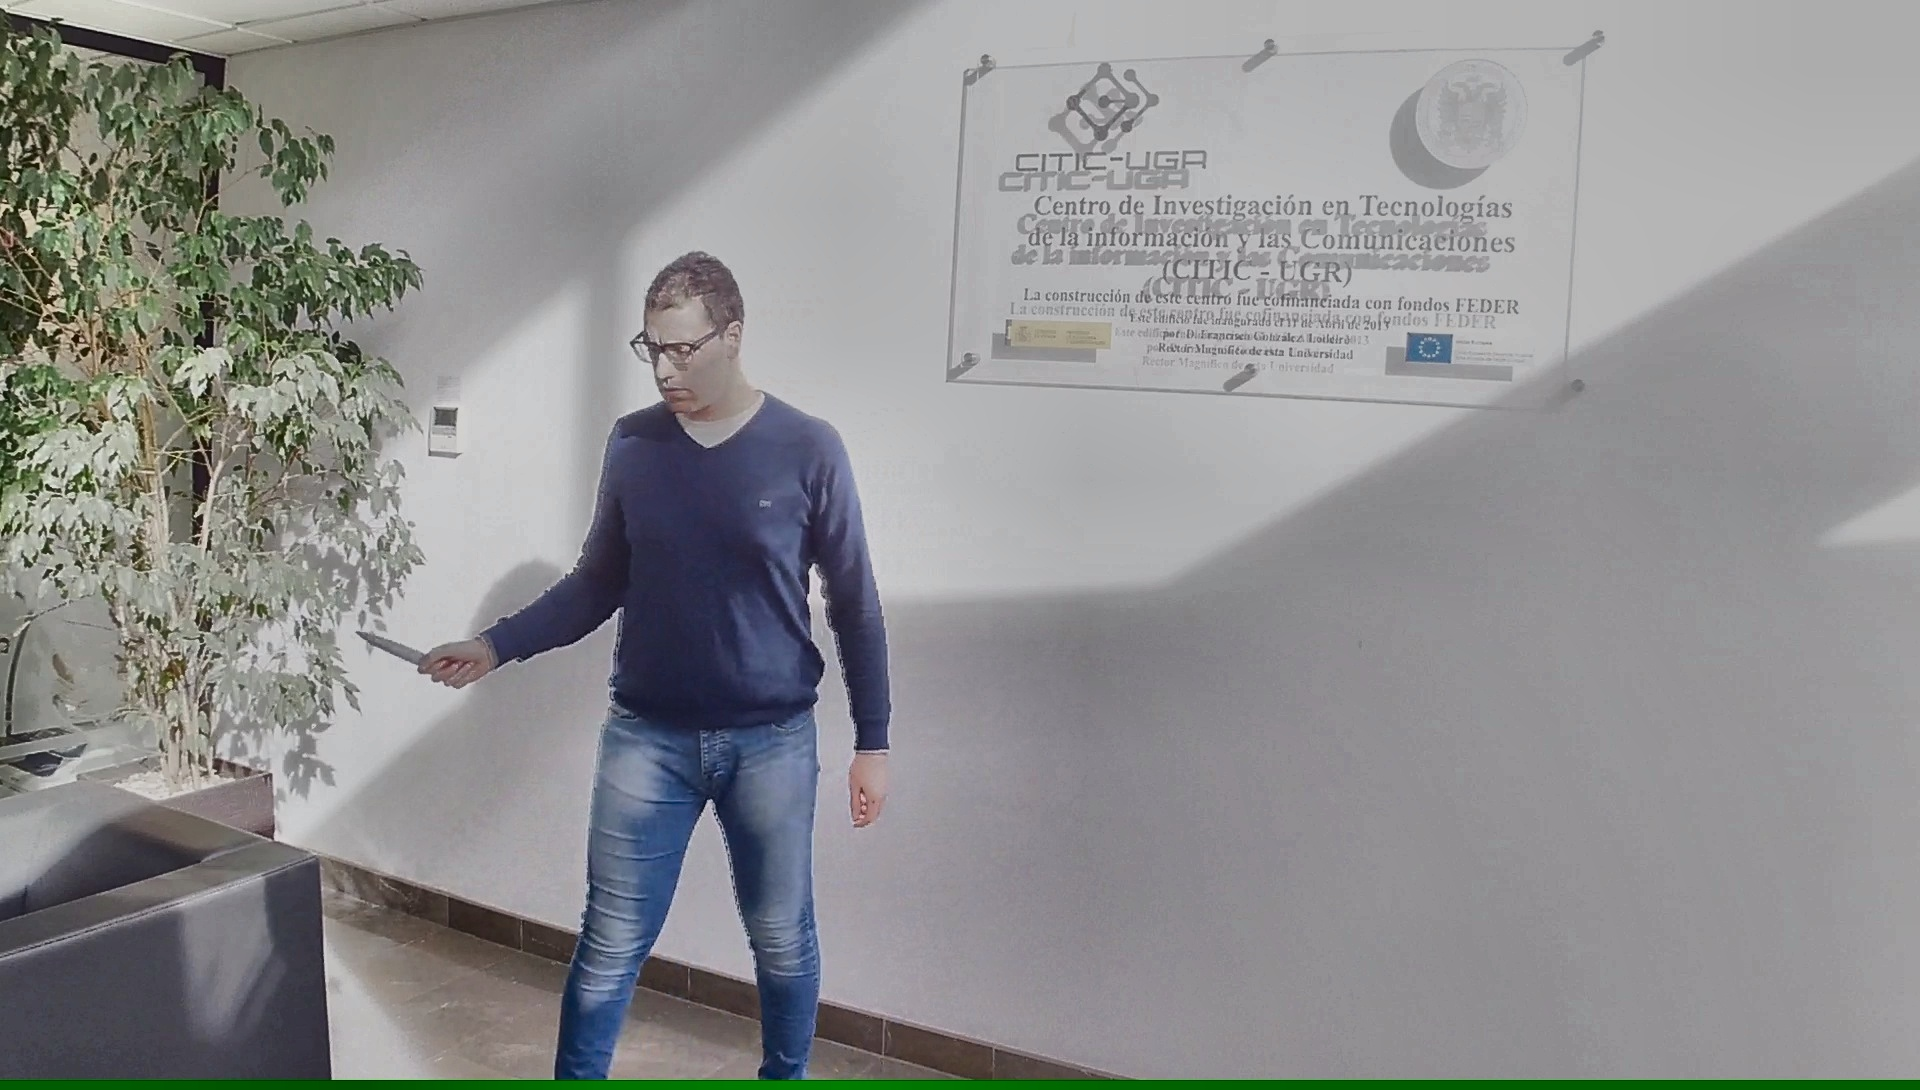knife: (347, 623, 469, 687)
